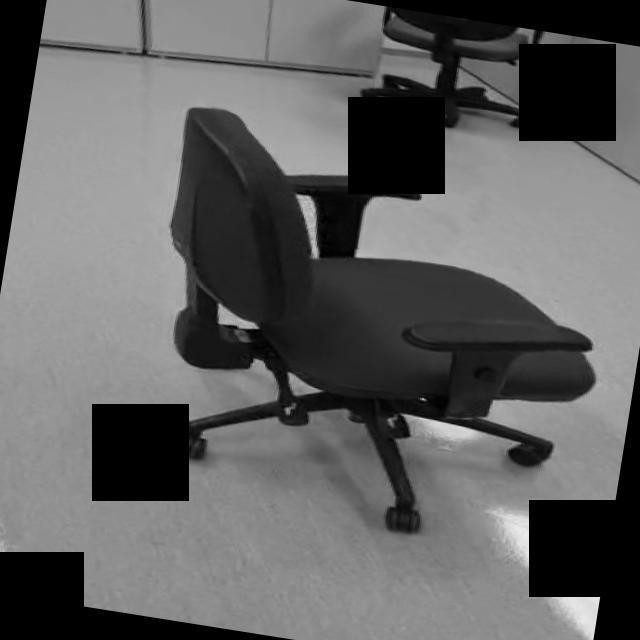chair: (126, 103, 627, 559)
